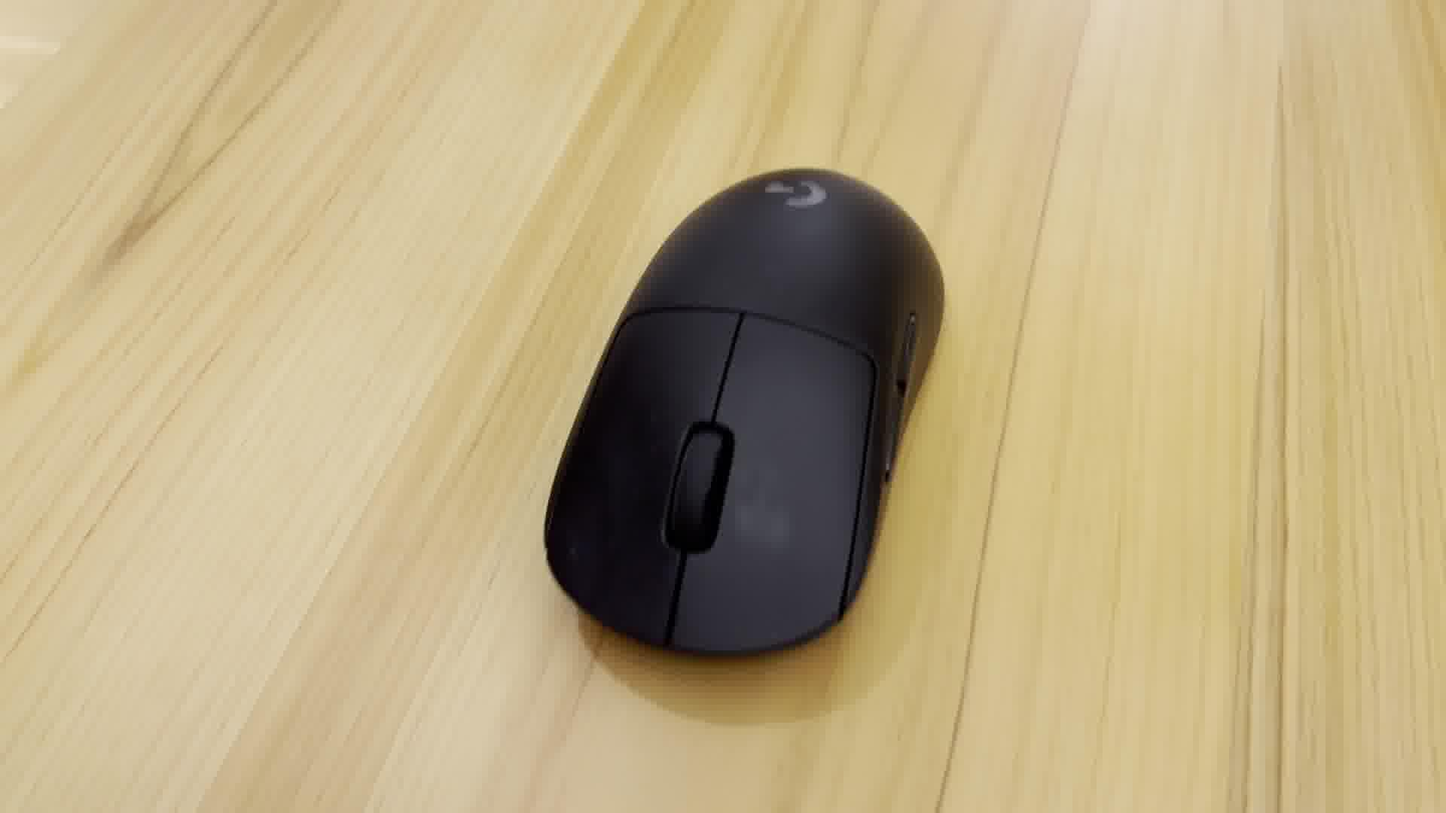mouse: (537, 154, 952, 672)
